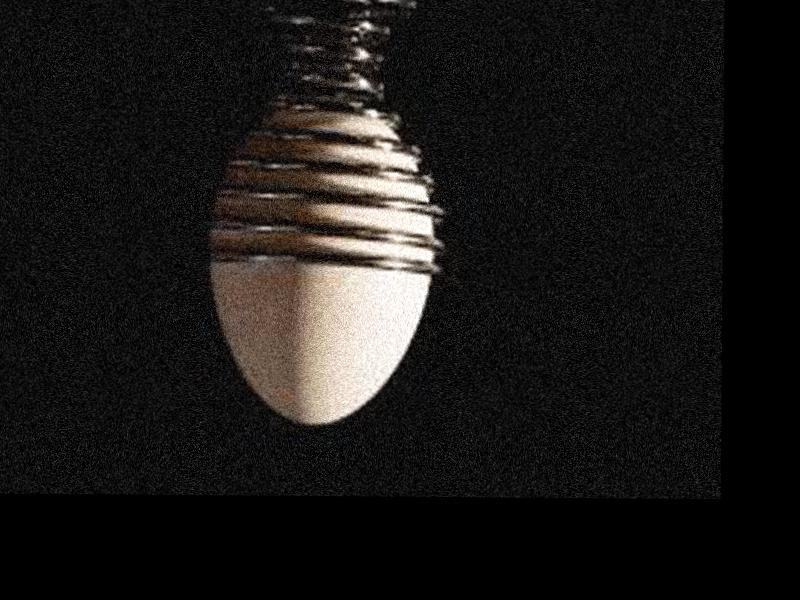Eggs: (209, 107, 436, 427)
